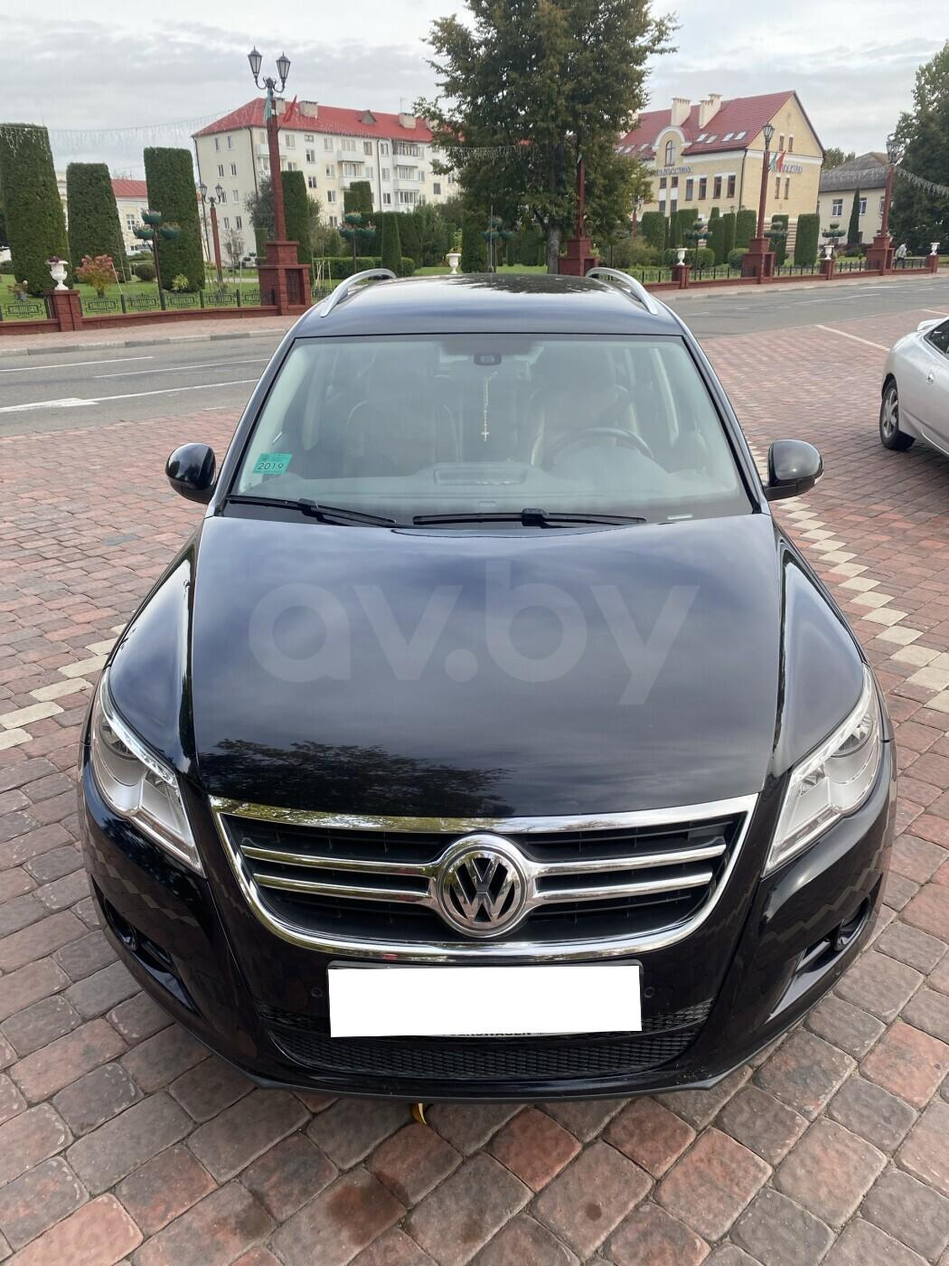Tiguan_2007-2011: (72, 266, 902, 1105)
